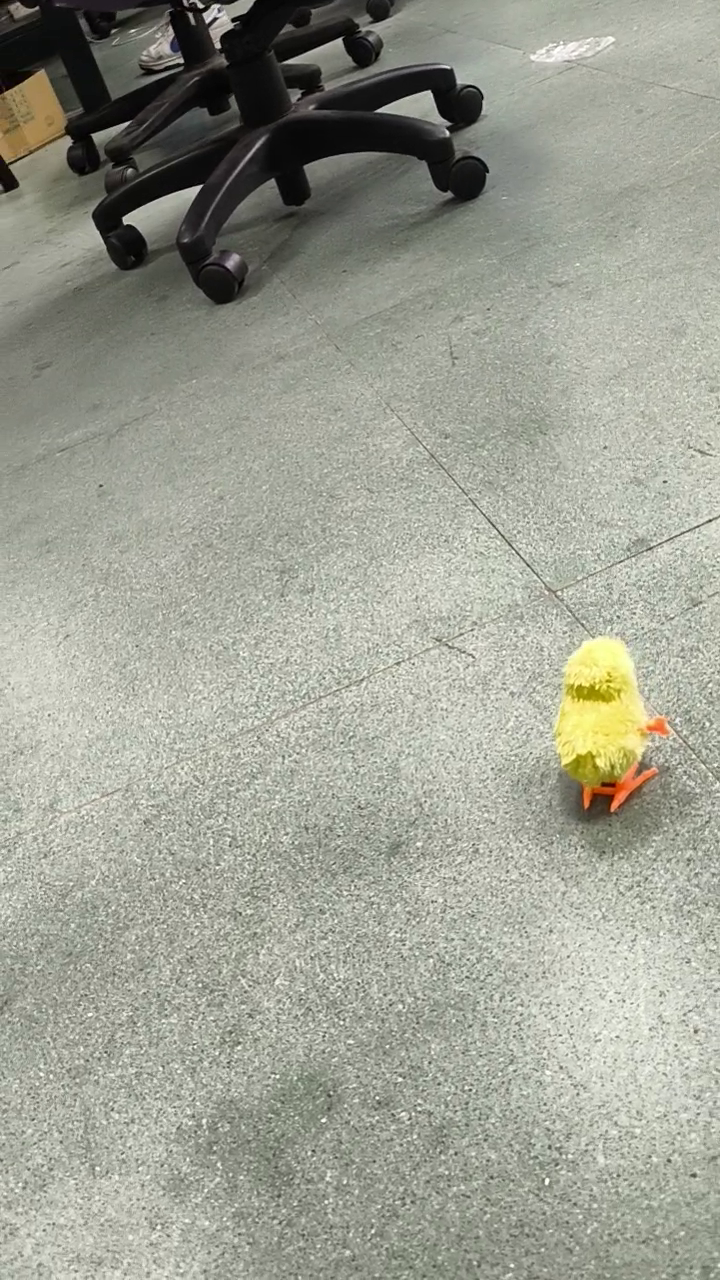yellow chicken: (549, 633, 661, 810)
